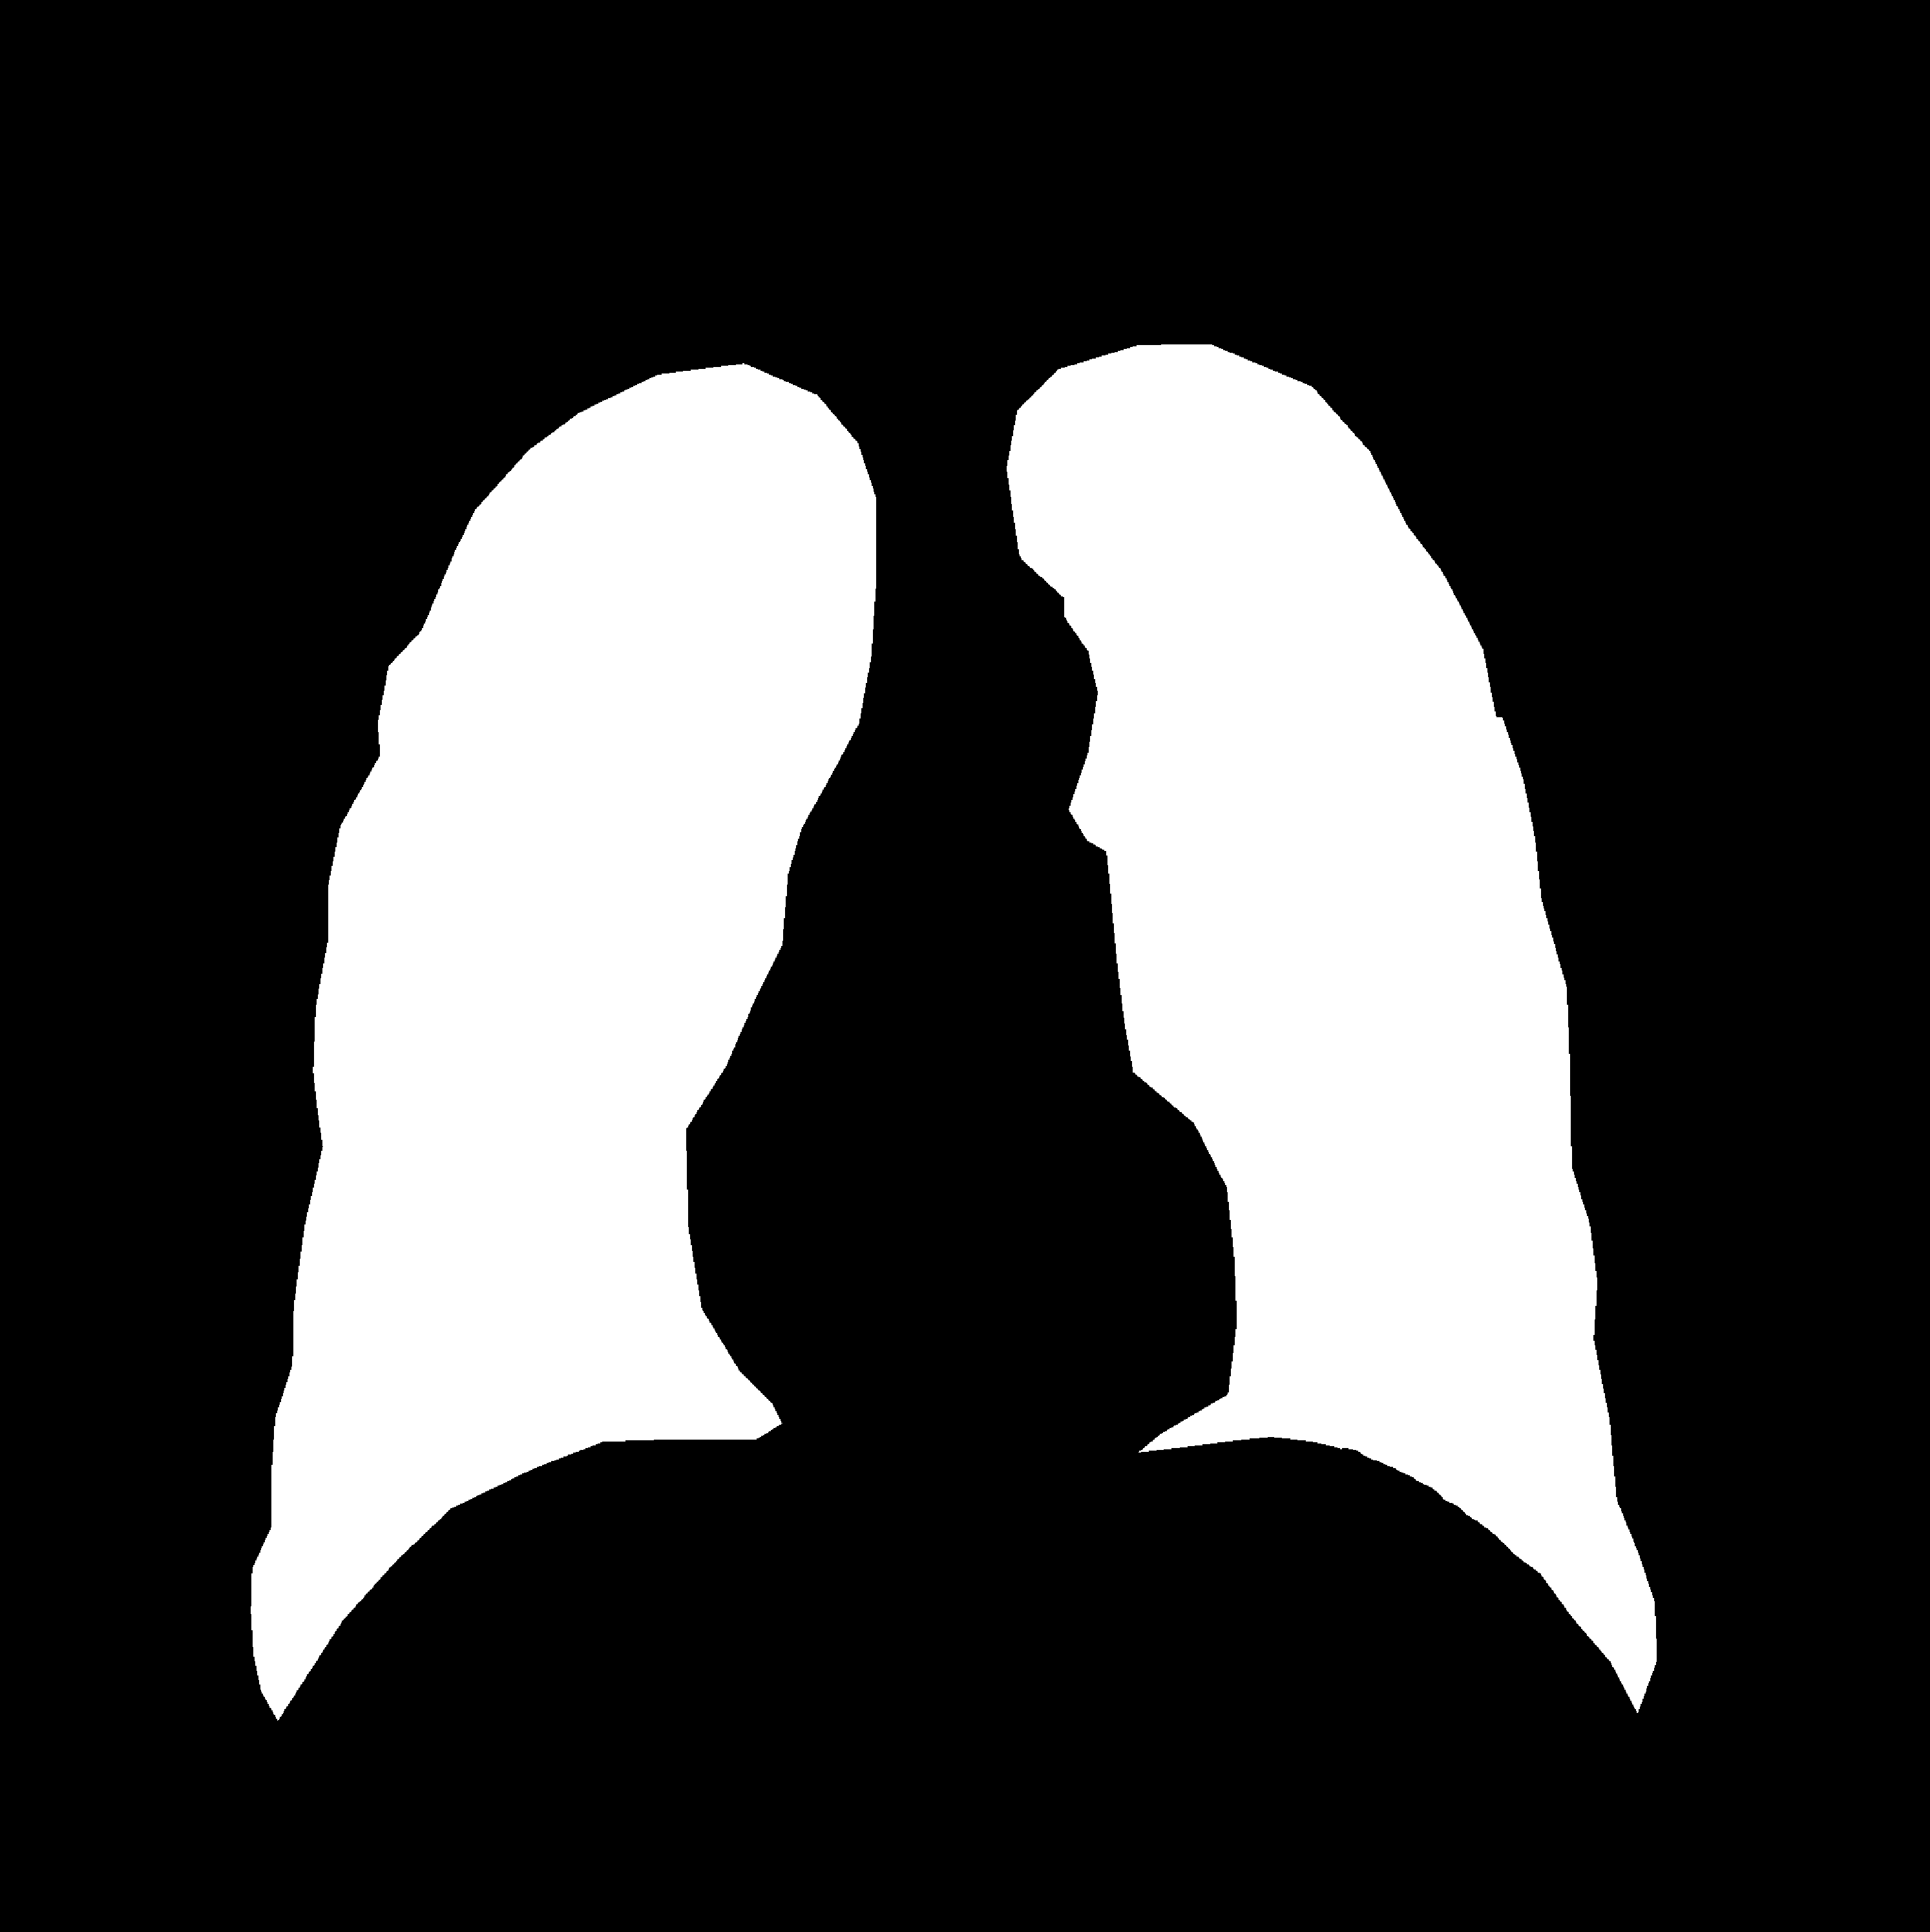heart: (680, 1025, 1241, 1457)
left_lung: (251, 362, 875, 1720)
right_lung: (1007, 345, 1656, 1713)
